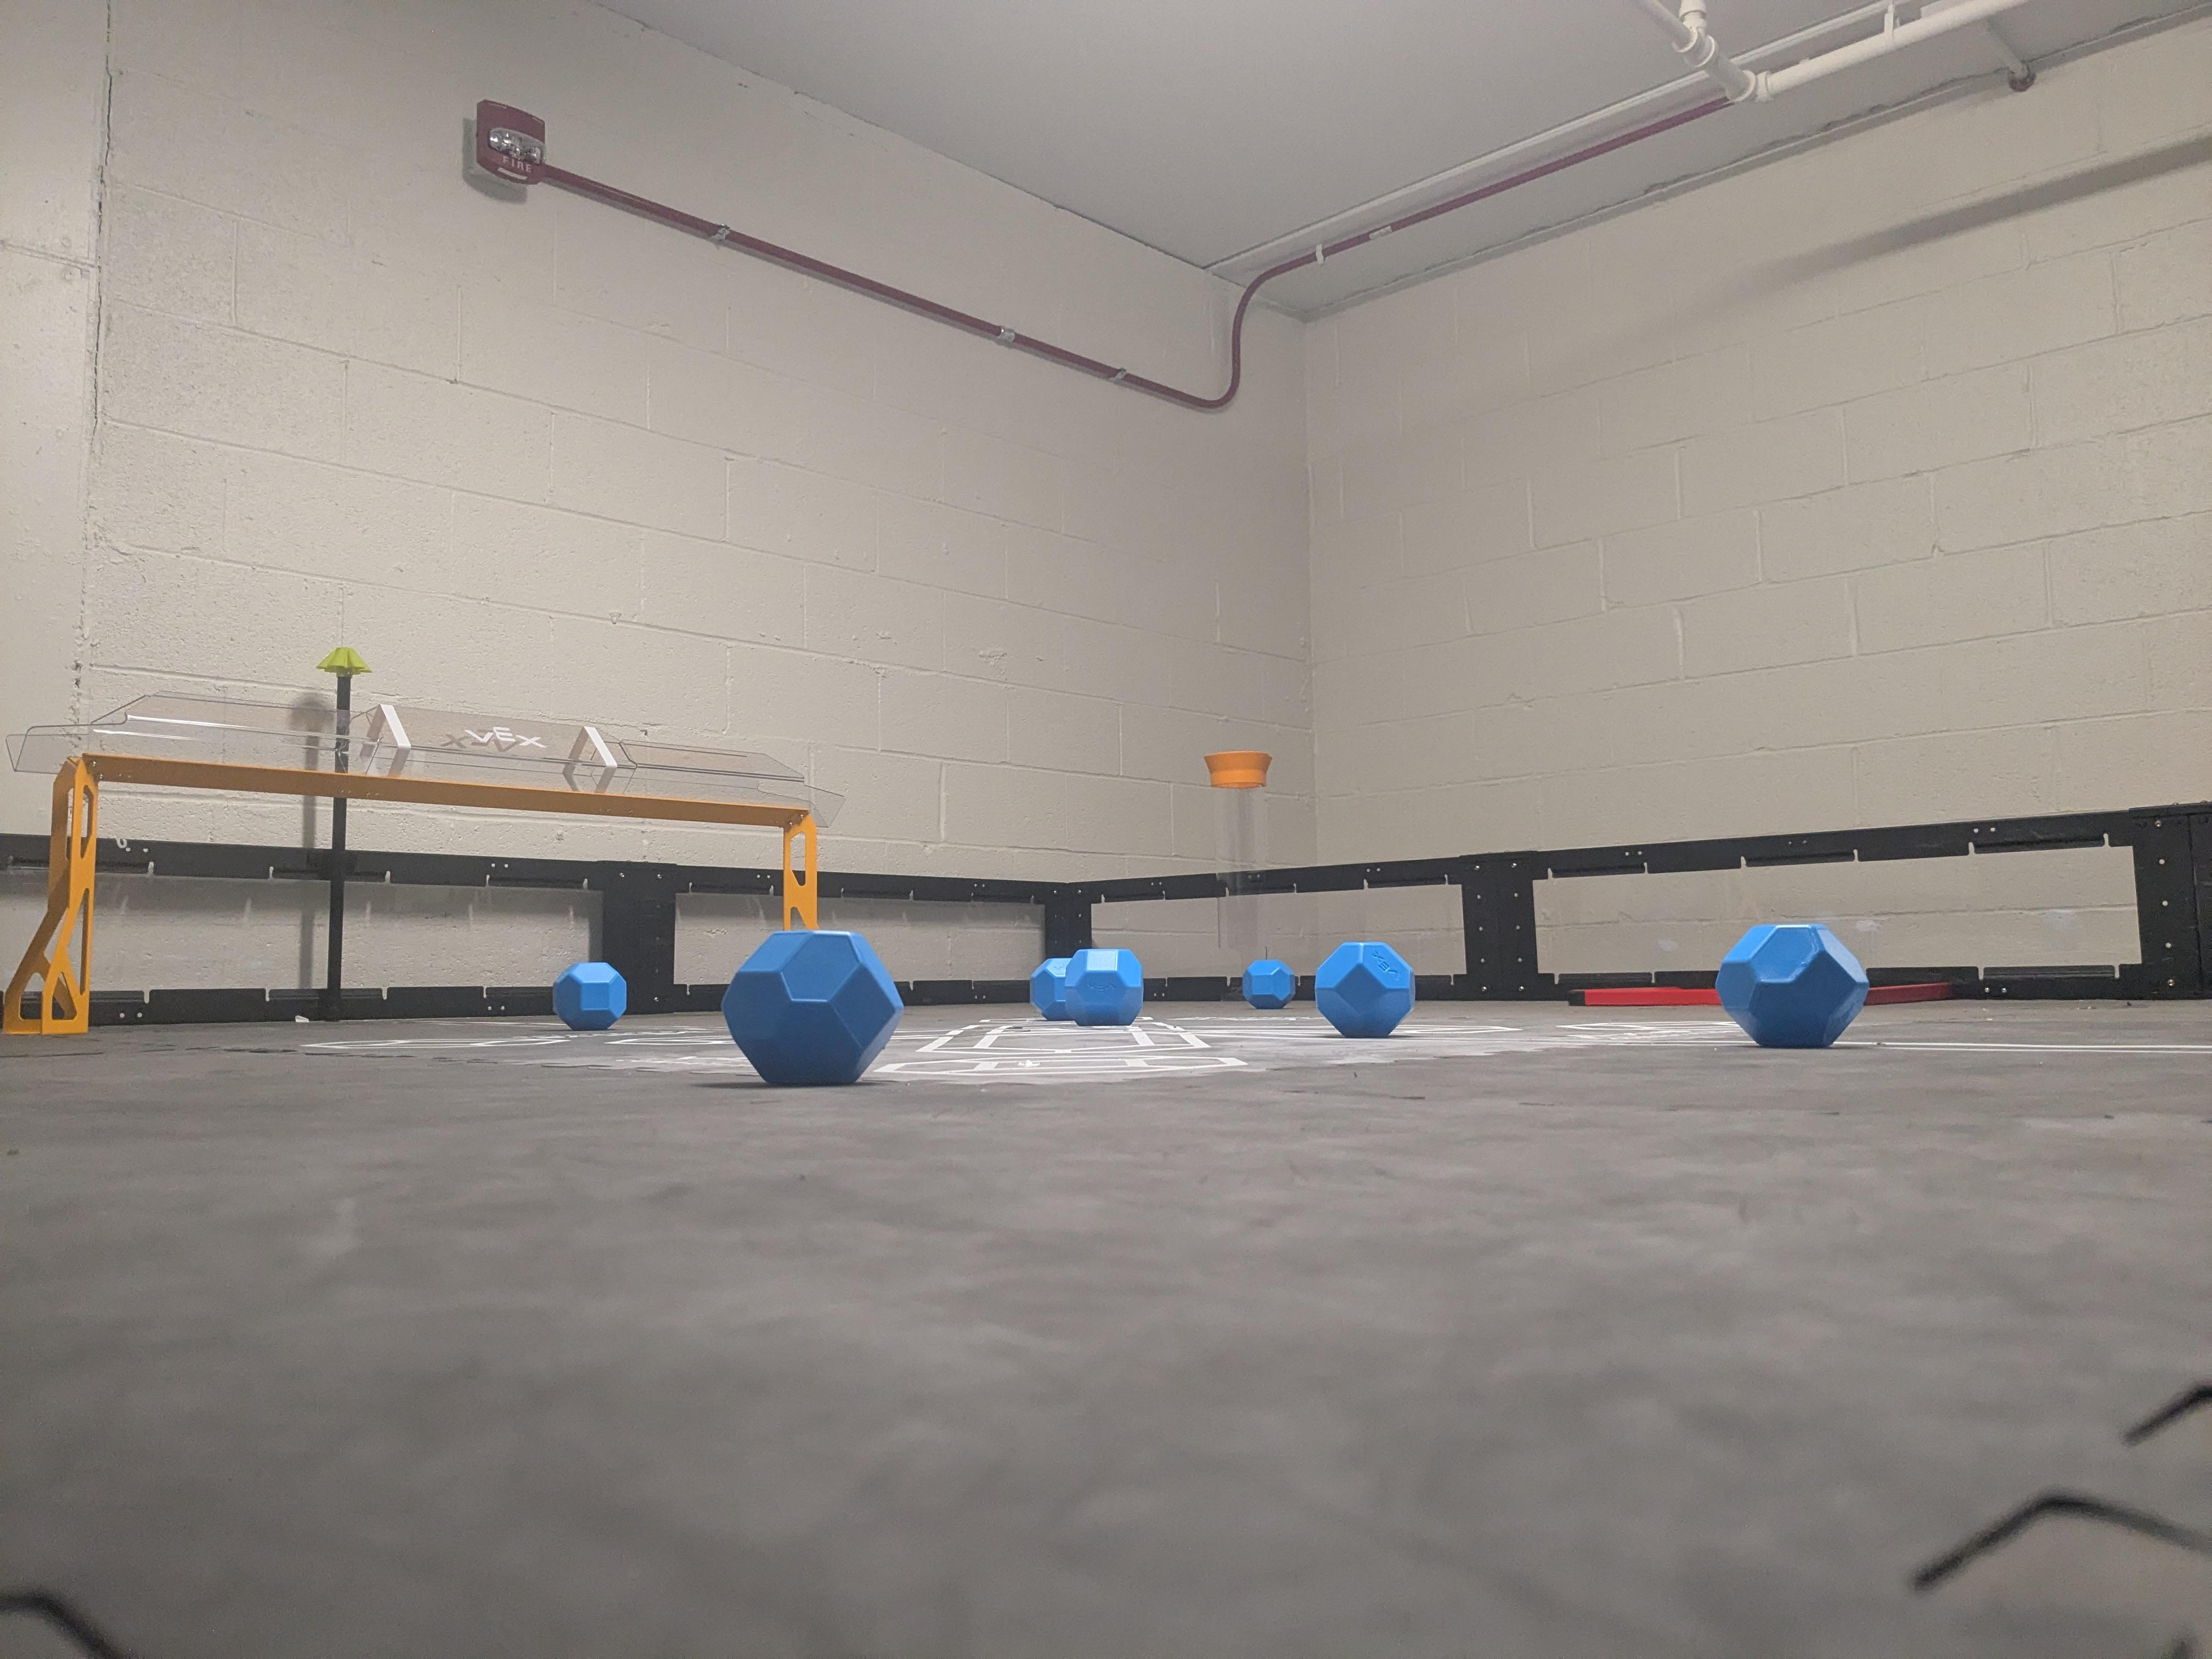Vex-Pieces-BLUE: (718, 931, 902, 1086), (1717, 924, 1862, 1044), (1317, 943, 1413, 1033), (1033, 948, 1143, 1023), (556, 964, 625, 1032), (1242, 957, 1298, 1009)
